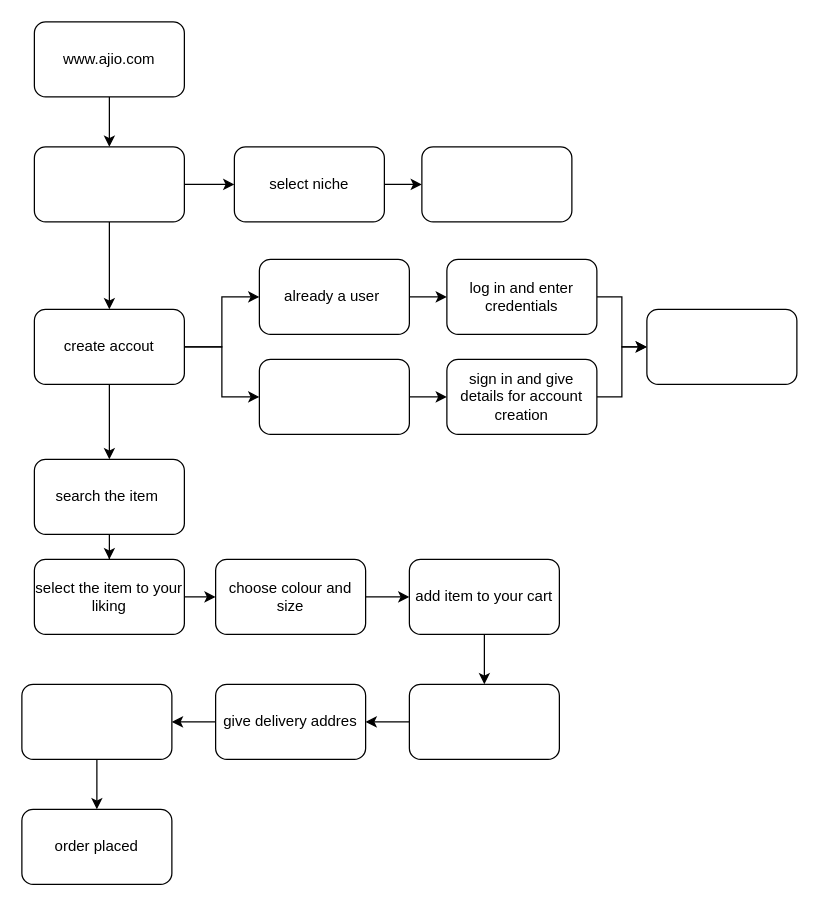
Image size: 819x906. Some labels were removed from this diagram. The centre of each missing label's shape, as x and y in pixels:
"click continue" belongs at point 483,721.
"log in to the account" belongs at point 721,346.
"menus" belongs at point 108,184.
"new user" belongs at point 333,396.
"select payment option" belongs at point 96,721.
"women,men,kids etc" belongs at point 496,184.
